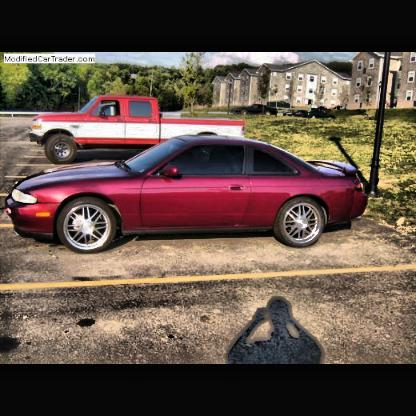Nissan 240SX Coupe 1998: (7, 135, 371, 255)
